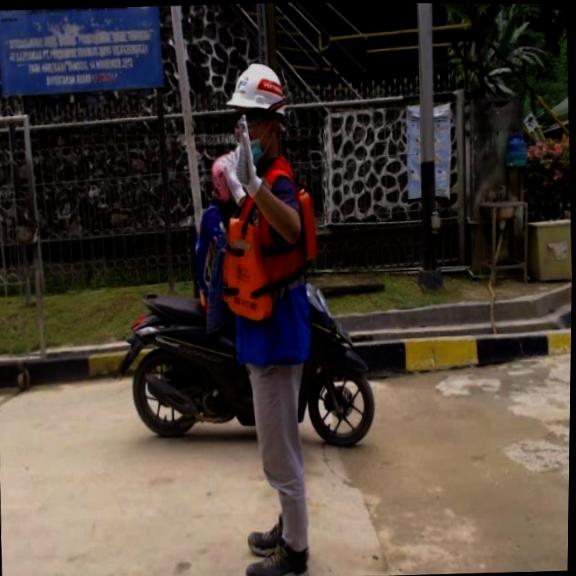safety_vest: (218, 182, 320, 322)
